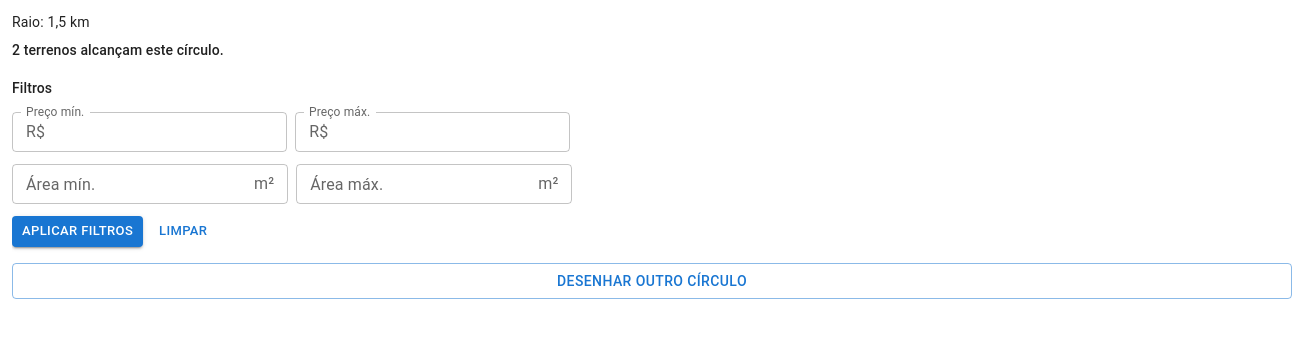
Test: SearchPanel › blocks a maximum below its minimum
The width and height of the screenshot is (1304, 340).
In the field labelled "Preço mín.": coordinates (170, 132) [53,112,287,152], type "300"
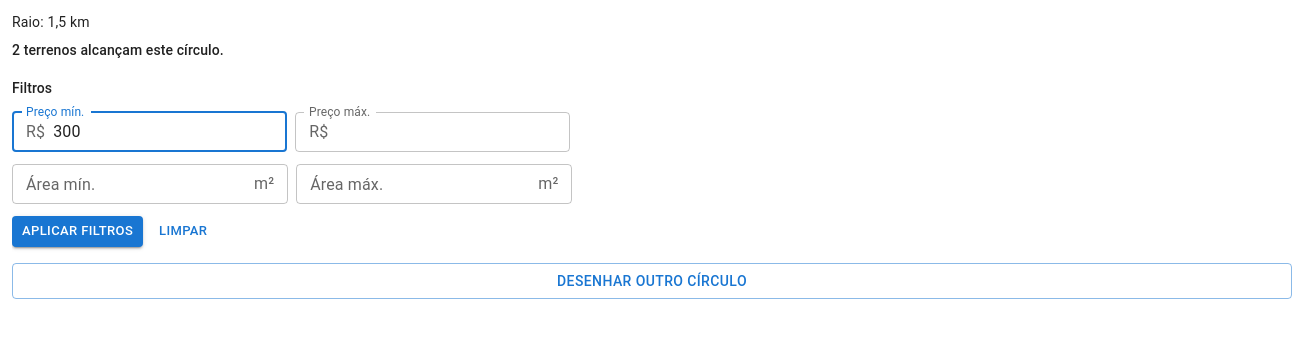
In the field labelled "Preço máx.": coordinates (453, 132) [336,112,570,152], type "100"
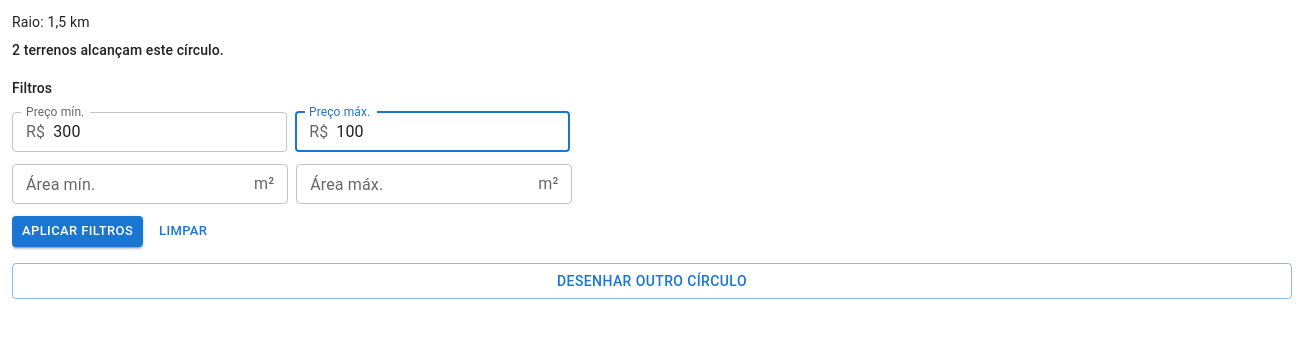
Click the button "Aplicar filtros": coordinates (78, 231) [12,216,143,247]
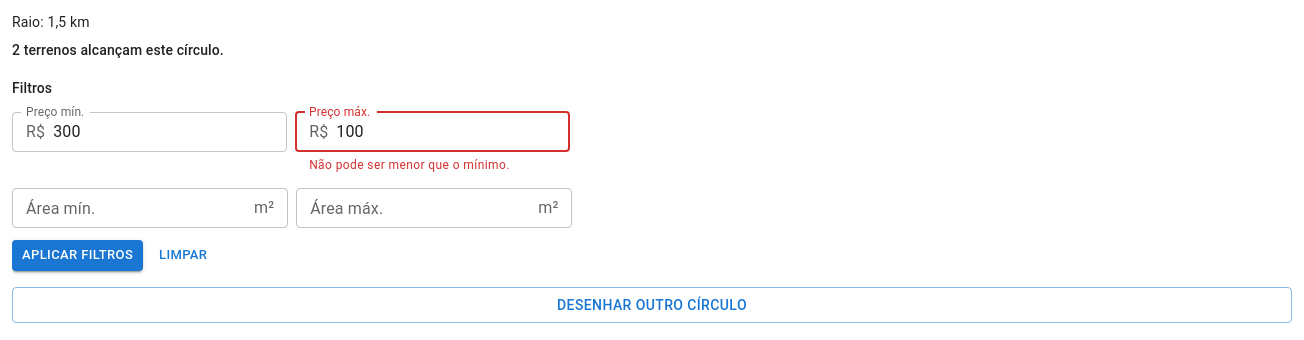
Expected: the text "Não pode ser menor que o mínimo." is shown, [309,158,510,172]
